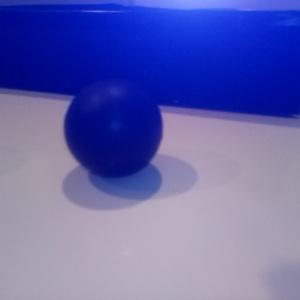dead_ball: (63, 79, 163, 179)
